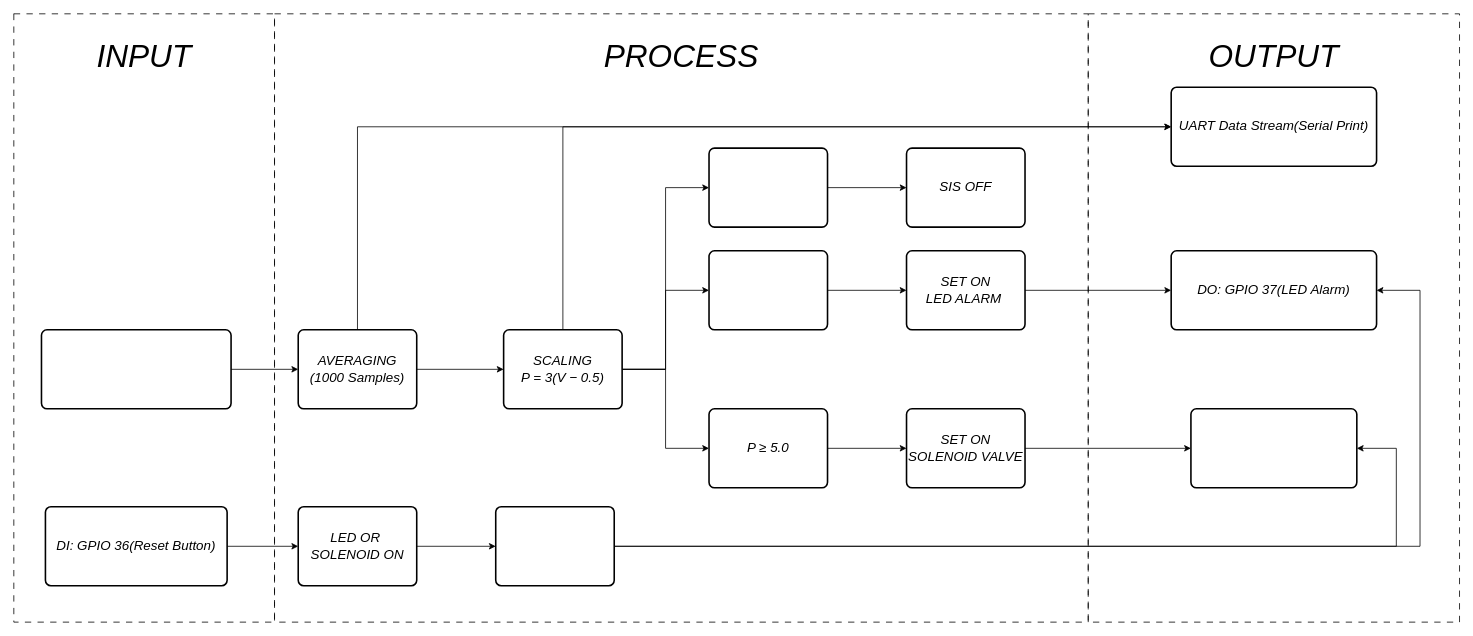
The diagram is 1473 pixels wide and 636 high, and some of its shapes have lost their labels. Each missing label, with the box of its shape:
0.0 ≤ P <4.0: (708, 147, 828, 228)
4.0 ≤ P <5.0: (708, 250, 828, 330)
AI: GPIO 1(Pressure Sensor): (40, 329, 231, 409)
DO: GPIO 35(Solenoid): (1190, 408, 1357, 488)
SET OFF LED ALARM AND SOLENOID: (495, 506, 615, 586)
